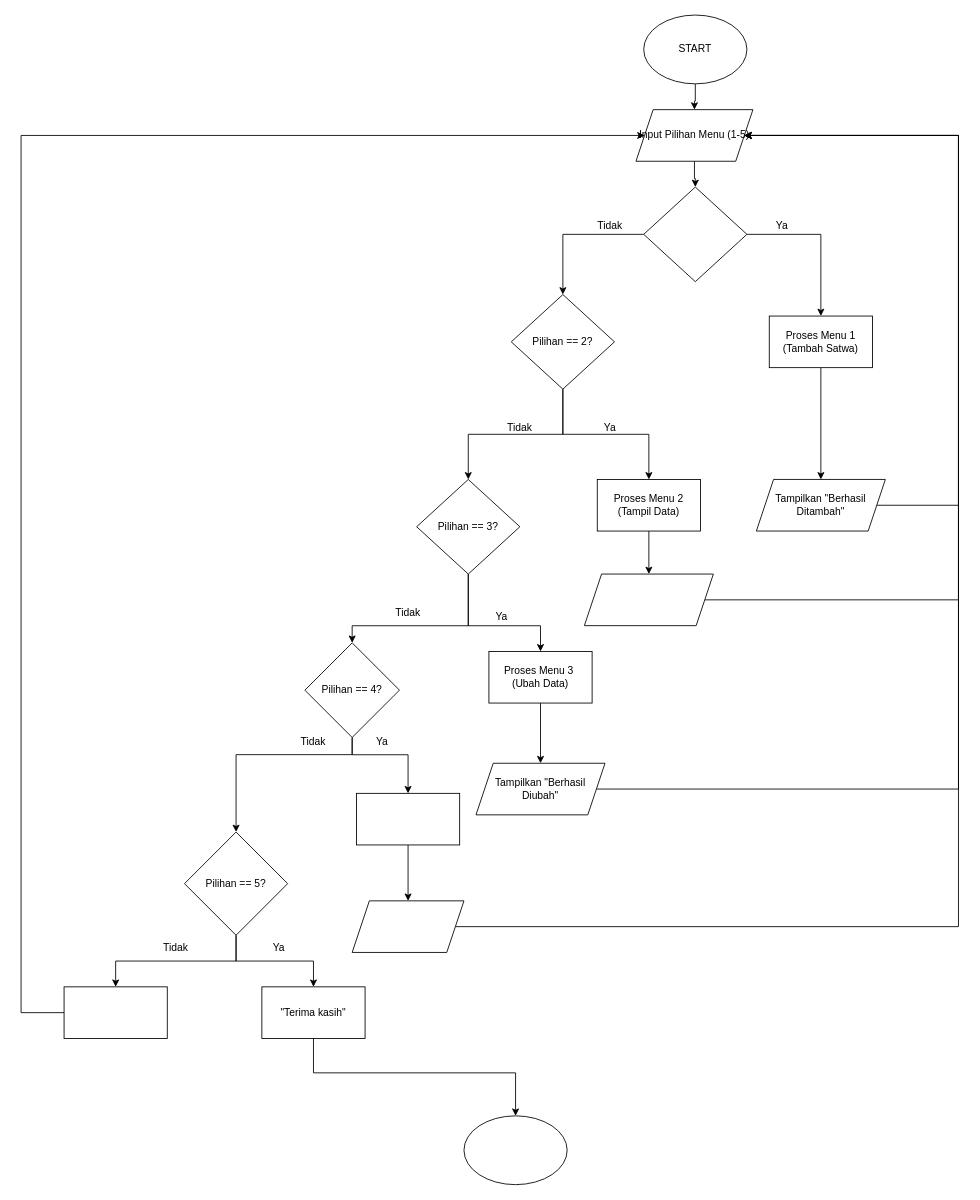
The diagram is 980 pixels wide and 1200 high, and some of its shapes have lost their labels. Each missing label, with the centre of its shape:
"Pilihan Tidak Valid!": point (115, 1012)
END: point (515, 1150)
Pilihan == 1?: point (695, 234)
Proses Menu 4 (Hapus Data): point (408, 818)
Tampilkan "Berhasil Dihapus": point (407, 926)
Tampilkan Seluruh Data Satwa: point (648, 599)
